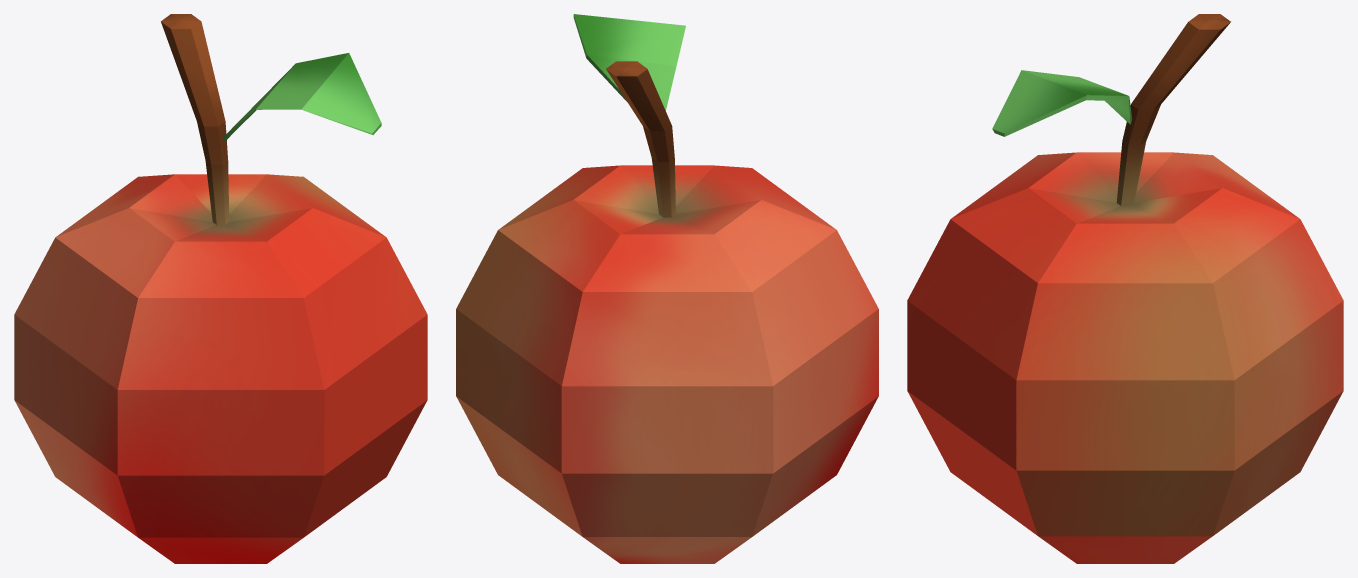
The model's file is appleblend.fbx.
3 views of the same model, side by side, from view 1: azimuth 30°, elevation 25°; view 2: azimuth 150°, elevation 25°; view 3: azimuth 270°, elevation 25° (orthographic). The views are drawn at different scales.
Visible parts, largest first — view 1: Sphere; view 2: Sphere; view 3: Sphere.
Part boxes in pixels (<box>): Sphere: <box>14,14,427,563</box>; Sphere: <box>456,14,878,563</box>; Sphere: <box>907,14,1343,563</box>.
Bounding box in the file's own units: 169 × 256 × 195.
1 material, 1 textured.
